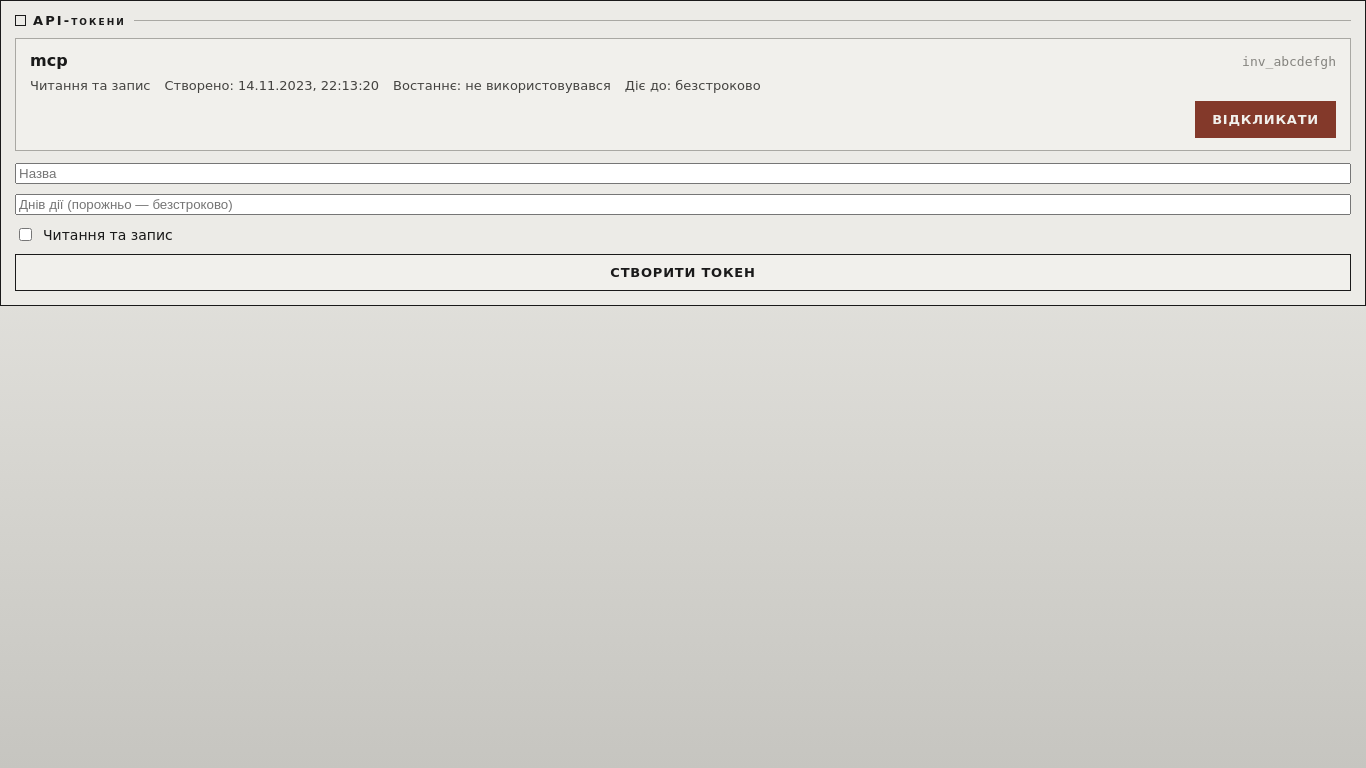
Test: TokensPanel › revokes a token after confirmation
The image size is (1366, 768).
Click the button "Відкликати" at (1266, 120), box x1=1195 y1=101 x2=1336 y2=138
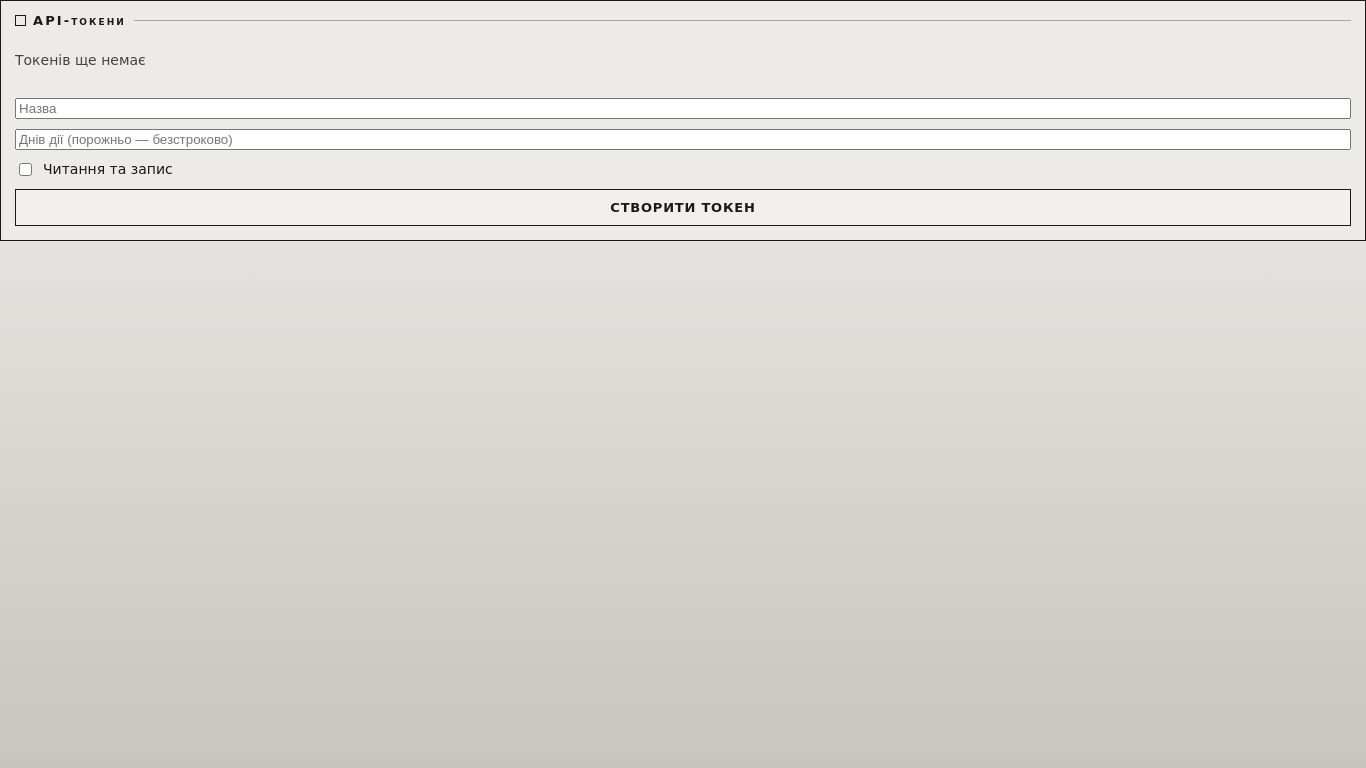
expect the text "Токенів ще немає" is shown: met, box x1=15 y1=52 x2=146 y2=68
